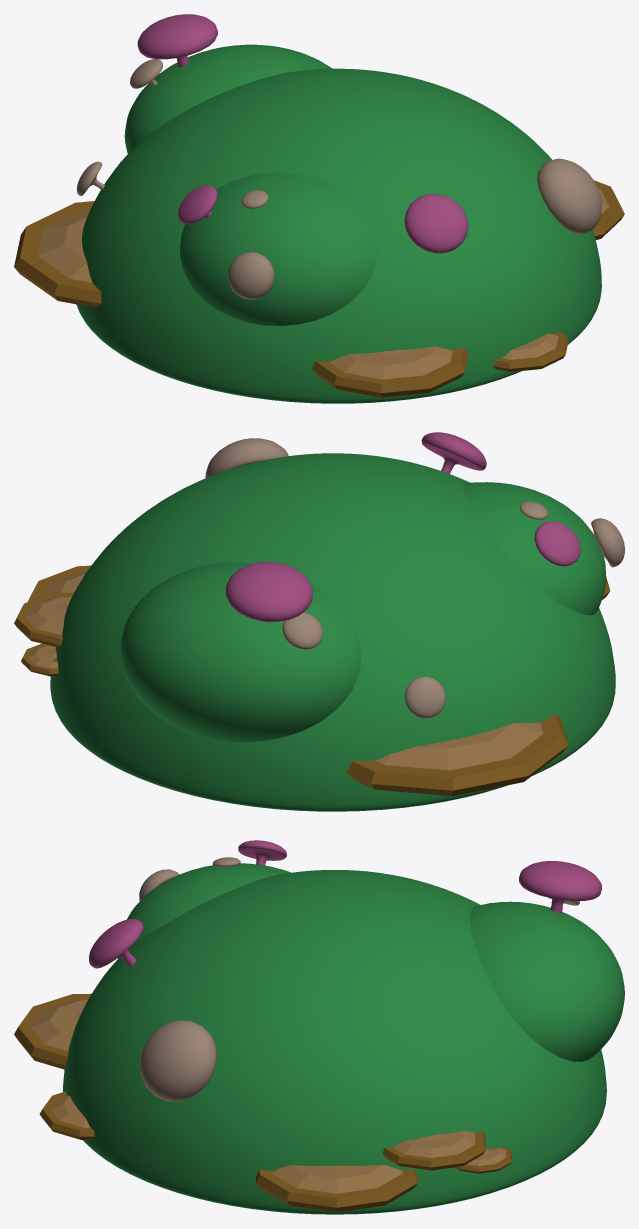
Rendered from MushroomBush.fbx.
The picture shows the model from 3 angles, top to bottom: view 1: azimuth 30°, elevation 25°; view 2: azimuth 150°, elevation 25°; view 3: azimuth 270°, elevation 25°; orthographic projection. The views are drawn at different scales.
Visible parts, largest first — view 1: Bush, Mush, MushCaps; view 2: Bush, Mush, MushCaps; view 3: Bush, Mush, MushCaps.
Part boxes in pixels (x1,y1,x2,y2): Bush: (76, 44, 601, 403); Mush: (14, 180, 624, 397); MushCaps: (76, 14, 601, 299); Bush: (50, 453, 615, 811); Mush: (14, 565, 610, 795); MushCaps: (205, 432, 624, 718); Bush: (63, 863, 624, 1214); Mush: (14, 993, 511, 1212); MushCaps: (89, 840, 601, 1101).
Size of the model in its own units: 2.27 by 0.929 by 2.2.
